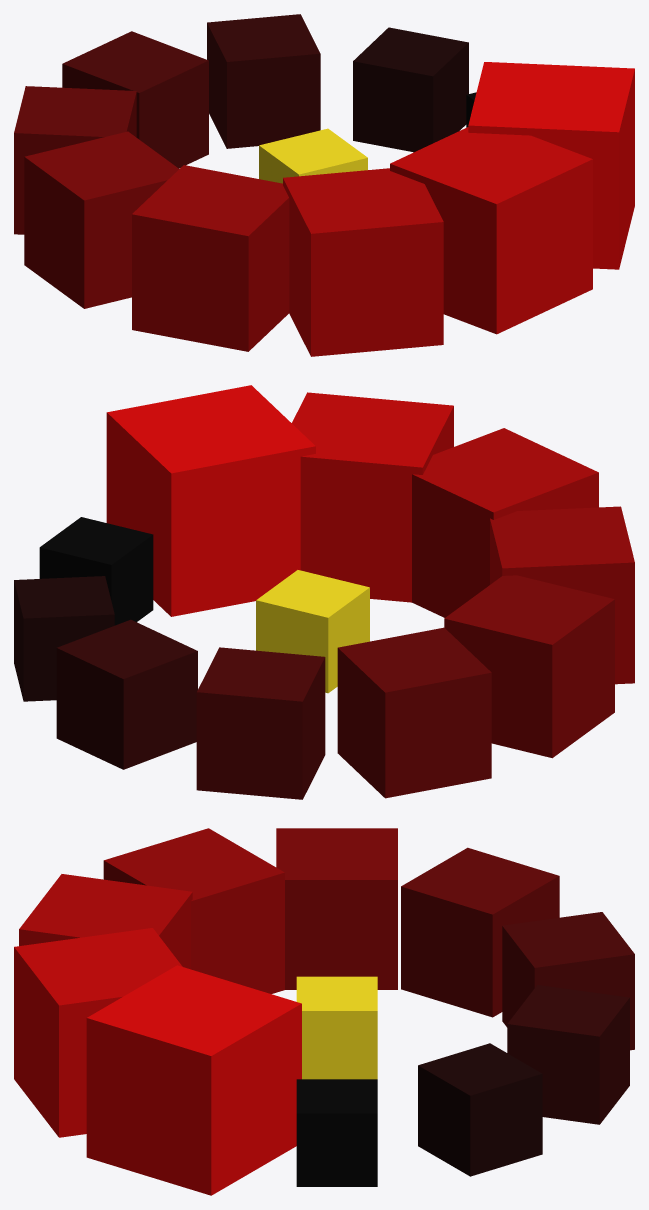
The model's file is Elements_Geometry_Transform.glb.
3 views of the same model, one above another, from view 1: azimuth 30°, elevation 25°; view 2: azimuth 150°, elevation 25°; view 3: azimuth 270°, elevation 25° (orthographic). The views are drawn at different scales.
Visible parts, largest first — view 1: 4acd0cdb-48dc-45a4-abbe-ee42c8e86b51_mesh, 1ae9a106-826e-41d5-a49b-761159b2e146_mesh, 4bc66b84-53ff-4ac7-88b9-5137f30ad6d1_mesh, 916f6065-6f5d-4b15-b1fe-ffa3800de32c_mesh, a21f53ec-7331-4bd0-b1bc-596eca58b43f_mesh, 5cf46c35-676b-4837-982c-6f40863791ba_mesh, 33c0953f-bc06-420e-9bff-4dcad4e29f40_mesh, 5cd68ed8-f1cd-4324-ad40-79cd7fe974c9_mesh, 2b0d9876-0957-463a-9932-ca315a8ecb41_mesh, be3664ca-fb9e-4efb-bee4-35b8cce48b16_mesh; view 2: a21f53ec-7331-4bd0-b1bc-596eca58b43f_mesh, 4acd0cdb-48dc-45a4-abbe-ee42c8e86b51_mesh, 2b0d9876-0957-463a-9932-ca315a8ecb41_mesh, 916f6065-6f5d-4b15-b1fe-ffa3800de32c_mesh, 1ae9a106-826e-41d5-a49b-761159b2e146_mesh, 5cd68ed8-f1cd-4324-ad40-79cd7fe974c9_mesh, 5cf46c35-676b-4837-982c-6f40863791ba_mesh, 4bc66b84-53ff-4ac7-88b9-5137f30ad6d1_mesh, be3664ca-fb9e-4efb-bee4-35b8cce48b16_mesh, 33c0953f-bc06-420e-9bff-4dcad4e29f40_mesh, de75d251-11d8-4bf3-bf2d-a0fbf64981b2_mesh; view 3: a21f53ec-7331-4bd0-b1bc-596eca58b43f_mesh, 4acd0cdb-48dc-45a4-abbe-ee42c8e86b51_mesh, 2b0d9876-0957-463a-9932-ca315a8ecb41_mesh, 916f6065-6f5d-4b15-b1fe-ffa3800de32c_mesh, 4bc66b84-53ff-4ac7-88b9-5137f30ad6d1_mesh, 33c0953f-bc06-420e-9bff-4dcad4e29f40_mesh, 5cf46c35-676b-4837-982c-6f40863791ba_mesh, 5cd68ed8-f1cd-4324-ad40-79cd7fe974c9_mesh, 1ae9a106-826e-41d5-a49b-761159b2e146_mesh, de75d251-11d8-4bf3-bf2d-a0fbf64981b2_mesh, be3664ca-fb9e-4efb-bee4-35b8cce48b16_mesh.
Boxes of the visible parts, x1,y1,x2,y2 form: 4acd0cdb-48dc-45a4-abbe-ee42c8e86b51_mesh: (390, 127, 592, 334); 1ae9a106-826e-41d5-a49b-761159b2e146_mesh: (283, 168, 443, 356); 4bc66b84-53ff-4ac7-88b9-5137f30ad6d1_mesh: (132, 165, 289, 351); 916f6065-6f5d-4b15-b1fe-ffa3800de32c_mesh: (24, 131, 178, 308); a21f53ec-7331-4bd0-b1bc-596eca58b43f_mesh: (468, 62, 634, 269); 5cf46c35-676b-4837-982c-6f40863791ba_mesh: (207, 14, 320, 148); 33c0953f-bc06-420e-9bff-4dcad4e29f40_mesh: (353, 27, 468, 152); 5cd68ed8-f1cd-4324-ad40-79cd7fe974c9_mesh: (62, 31, 208, 168); 2b0d9876-0957-463a-9932-ca315a8ecb41_mesh: (14, 86, 136, 234); be3664ca-fb9e-4efb-bee4-35b8cce48b16_mesh: (259, 128, 367, 183); a21f53ec-7331-4bd0-b1bc-596eca58b43f_mesh: (106, 385, 315, 616); 4acd0cdb-48dc-45a4-abbe-ee42c8e86b51_mesh: (292, 392, 453, 602); 2b0d9876-0957-463a-9932-ca315a8ecb41_mesh: (337, 627, 491, 798); 916f6065-6f5d-4b15-b1fe-ffa3800de32c_mesh: (444, 575, 614, 758); 1ae9a106-826e-41d5-a49b-761159b2e146_mesh: (412, 428, 598, 617); 5cd68ed8-f1cd-4324-ad40-79cd7fe974c9_mesh: (196, 647, 325, 799); 5cf46c35-676b-4837-982c-6f40863791ba_mesh: (56, 619, 197, 769); 4bc66b84-53ff-4ac7-88b9-5137f30ad6d1_mesh: (490, 506, 634, 684); be3664ca-fb9e-4efb-bee4-35b8cce48b16_mesh: (256, 570, 369, 693); 33c0953f-bc06-420e-9bff-4dcad4e29f40_mesh: (14, 576, 114, 701); de75d251-11d8-4bf3-bf2d-a0fbf64981b2_mesh: (39, 517, 153, 625); a21f53ec-7331-4bd0-b1bc-596eca58b43f_mesh: (86, 965, 301, 1195); 4acd0cdb-48dc-45a4-abbe-ee42c8e86b51_mesh: (14, 928, 182, 1137); 2b0d9876-0957-463a-9932-ca315a8ecb41_mesh: (401, 847, 559, 1017); 916f6065-6f5d-4b15-b1fe-ffa3800de32c_mesh: (276, 828, 397, 989); 4bc66b84-53ff-4ac7-88b9-5137f30ad6d1_mesh: (103, 828, 284, 993); 33c0953f-bc06-420e-9bff-4dcad4e29f40_mesh: (418, 1043, 542, 1176); 5cf46c35-676b-4837-982c-6f40863791ba_mesh: (507, 985, 629, 1124); 5cd68ed8-f1cd-4324-ad40-79cd7fe974c9_mesh: (502, 912, 634, 1050); 1ae9a106-826e-41d5-a49b-761159b2e146_mesh: (19, 874, 192, 969); de75d251-11d8-4bf3-bf2d-a0fbf64981b2_mesh: (296, 1079, 377, 1186); be3664ca-fb9e-4efb-bee4-35b8cce48b16_mesh: (296, 976, 377, 1079).
Size of the model in its own units: 7.5 by 1.9 by 7.66.
